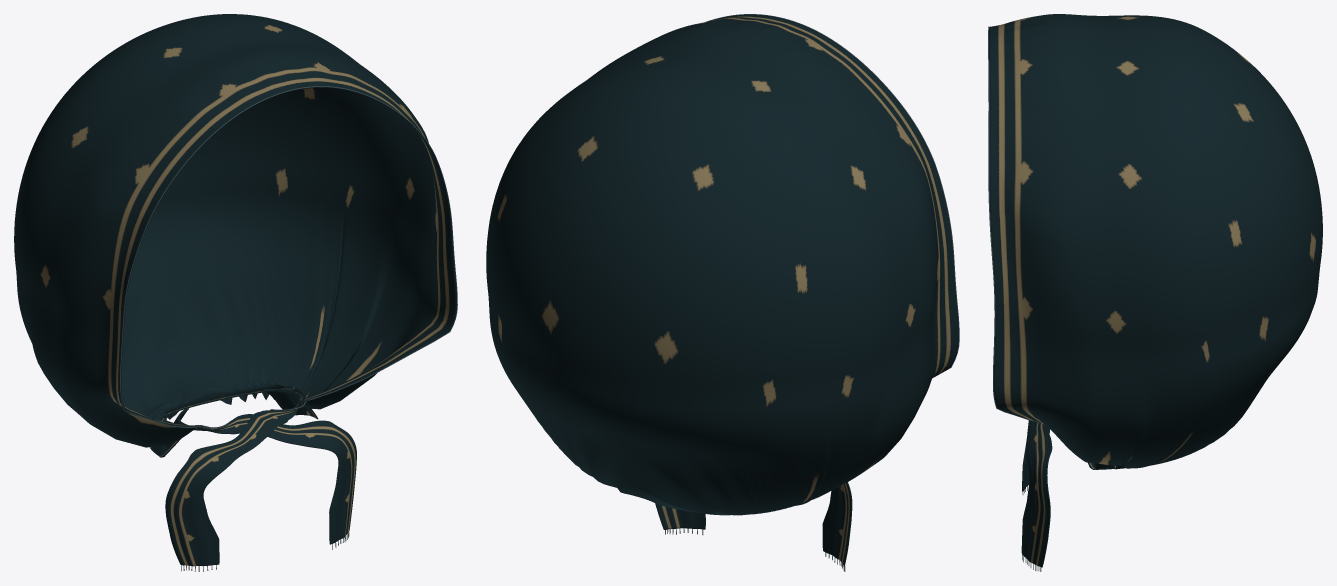
File: Masculine-Masculine-flow-jersey-pashmina250-headgear-2b596f3f.glb
3 views of the same model, side by side, from view 1: azimuth 30°, elevation 25°; view 2: azimuth 150°, elevation 25°; view 3: azimuth 270°, elevation 25° (orthographic). The views are drawn at different scales.
Visible parts, largest first — view 1: 226 headgear / Headwear / continuous woven pashmina239, 226 headgear / Headwear / face edge239; view 2: 226 headgear / Headwear / continuous woven pashmina239, 226 headgear / Headwear / face edge239; view 3: 226 headgear / Headwear / continuous woven pashmina239, 226 headgear / Headwear / face edge239.
Boxes of the visible parts, <box> form: 226 headgear / Headwear / continuous woven pashmina239: <box>14,14,456,566</box>; 226 headgear / Headwear / face edge239: <box>120,86,457,428</box>; 226 headgear / Headwear / continuous woven pashmina239: <box>486,14,958,565</box>; 226 headgear / Headwear / face edge239: <box>706,14,959,377</box>; 226 headgear / Headwear / continuous woven pashmina239: <box>989,14,1322,567</box>; 226 headgear / Headwear / face edge239: <box>988,26,1040,422</box>.
Bounding box in the file's own units: 1.1 × 1.42 × 0.8633.
Materials: 3 (1 with a texture image).
